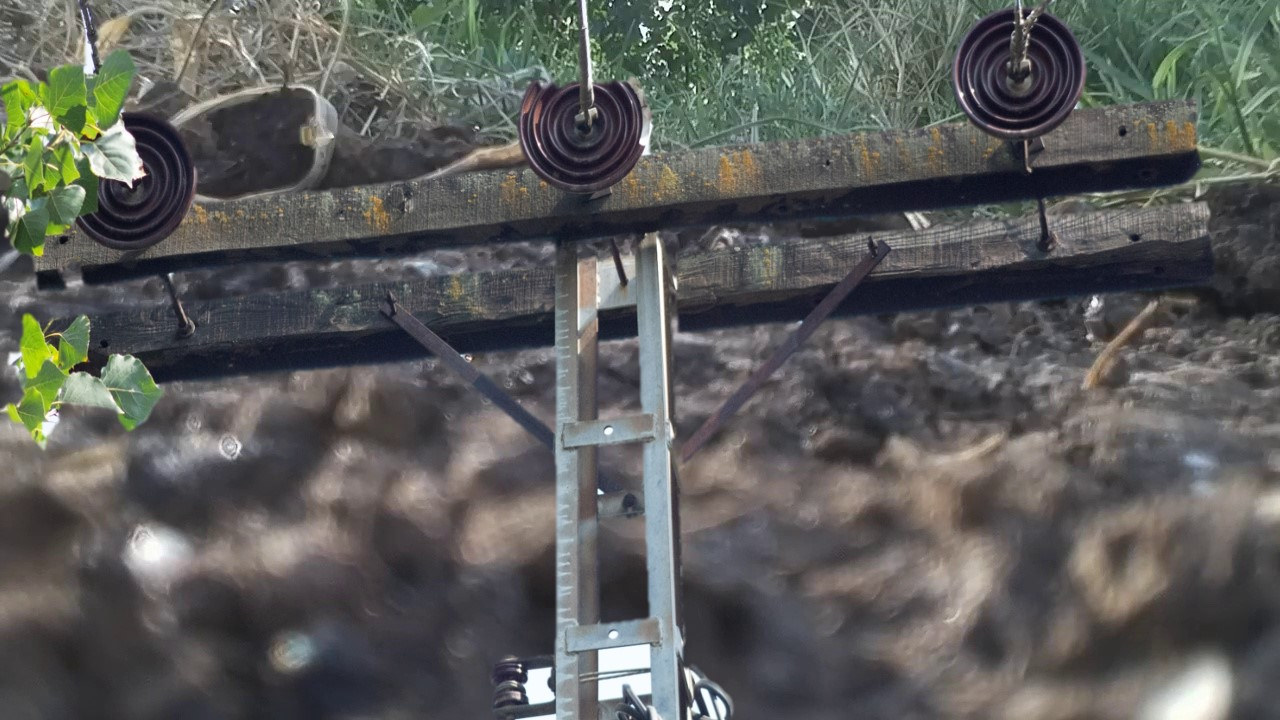defect_disc: (517, 68, 659, 201)
insulator_disc: (952, 9, 1088, 138), (89, 108, 202, 254)
